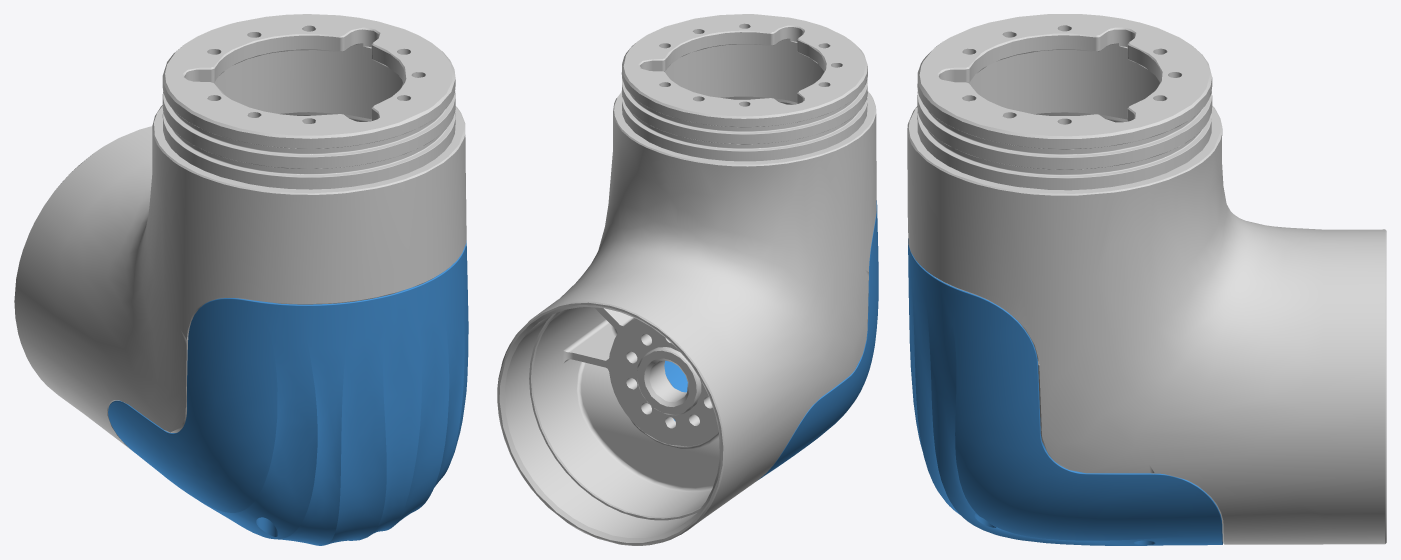
3 views of the same model, side by side, from view 1: azimuth 30°, elevation 25°; view 2: azimuth 150°, elevation 25°; view 3: azimuth 270°, elevation 25° (orthographic). The views are drawn at different scales.
Bounding box in the file's own units: 70.95 × 111 × 106.
